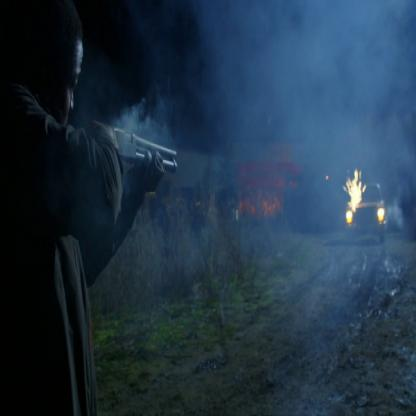Guns: (86, 114, 178, 191)
